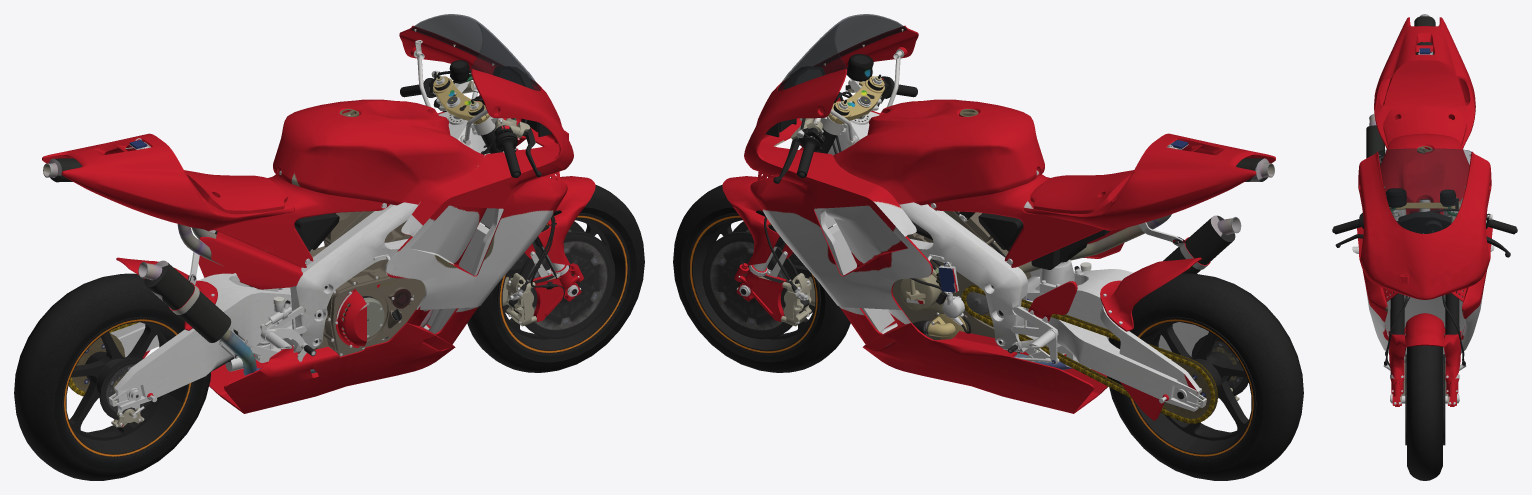
File: gp500_works.glb
The picture shows the model from 3 angles, left to right: view 1: azimuth 30°, elevation 25°; view 2: azimuth 150°, elevation 25°; view 3: azimuth 270°, elevation 25°; orthographic projection. The views are drawn at different scales.
Parts seen in each view (by area): view 1: body, wheel_rear, wheel_front; view 2: body, wheel_rear, wheel_front; view 3: body, wheel_front.
Boxes of the visible parts, <box> form: body: <box>42,14,615,427</box>; wheel_rear: <box>14,273,210,480</box>; wheel_front: <box>467,184,644,372</box>; body: <box>702,14,1275,423</box>; wheel_rear: <box>1107,273,1303,480</box>; wheel_front: <box>673,184,850,372</box>; body: <box>1332,14,1517,445</box>; wheel_front: <box>1407,345,1442,480</box>.
Size of the model in its own units: 1.98 by 1.12 by 0.6393.
11 materials, 8 textured.
